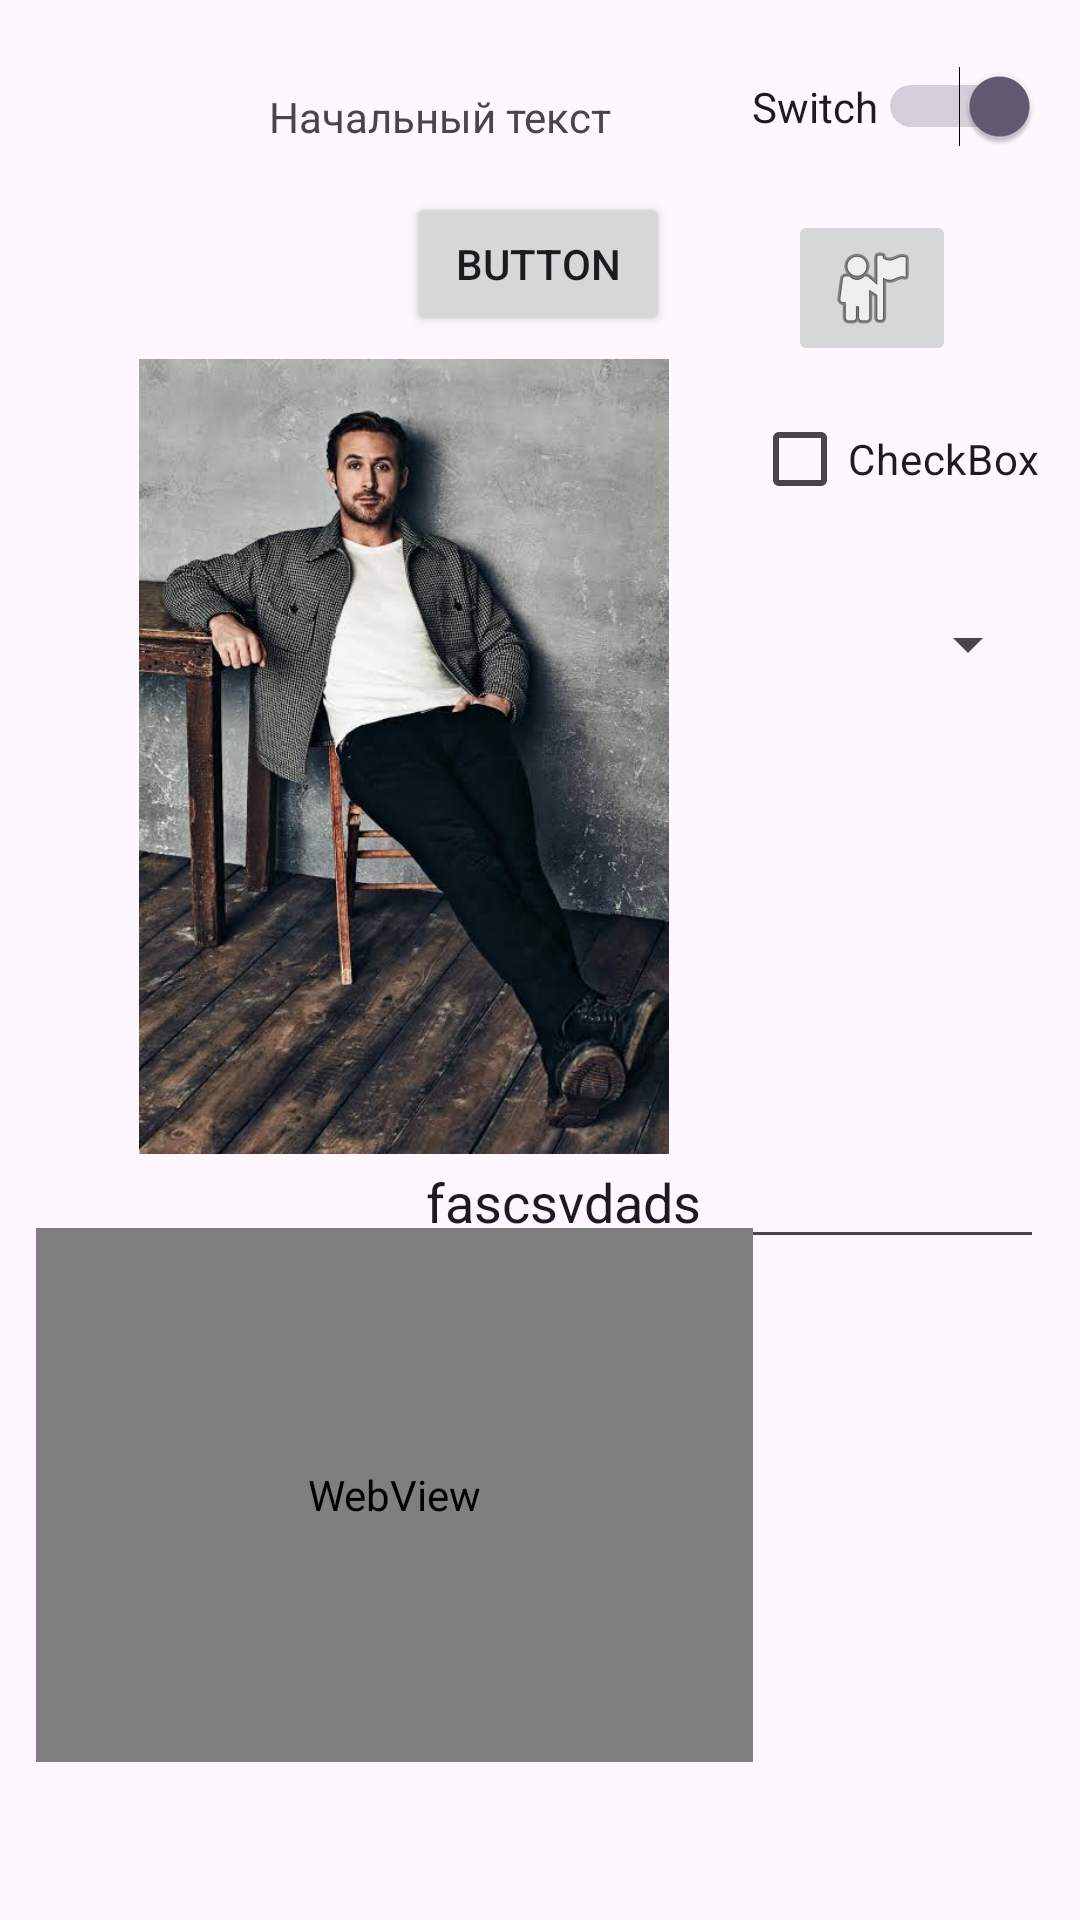

Icons on this 1080px×1920px Android screen, each with its box as rect(x1, y1, x2, y2):
myplaces: rect(800, 228, 944, 348)
